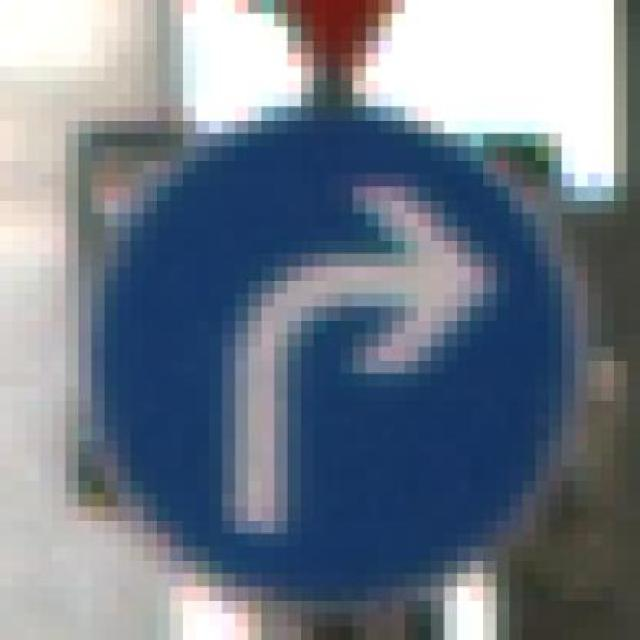Turn right ahead: (89, 91, 586, 611)
